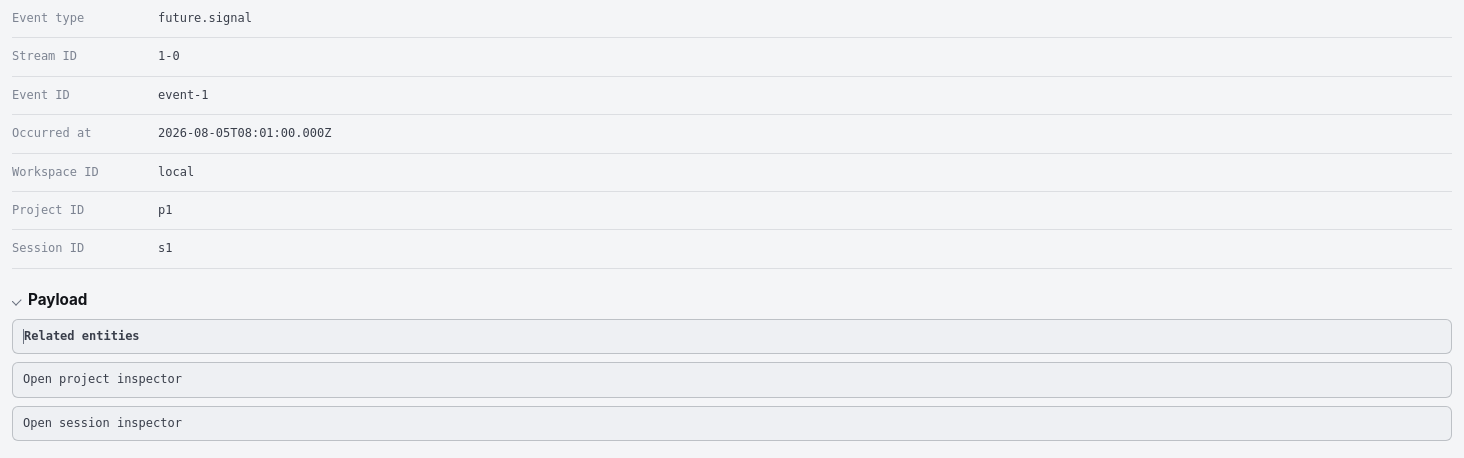
Test case: read-only inspectors › navigates from an event only to known project and session references
The width and height of the screenshot is (1464, 458).
Click the button "Open project inspector". click: (102, 379)
box: left=12, top=362, right=1452, bottom=398
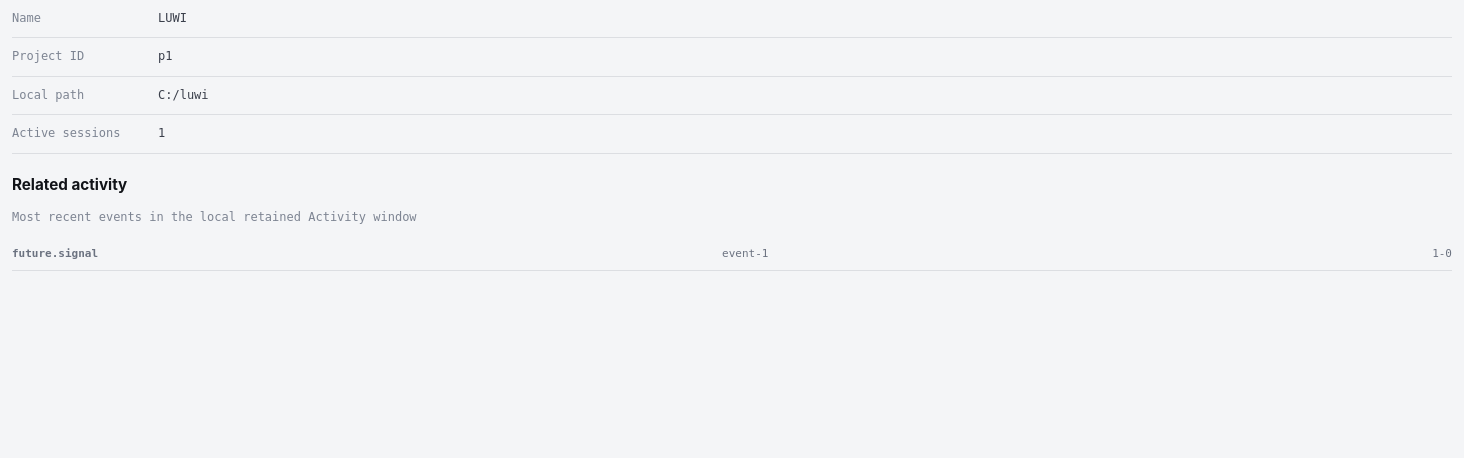
Expected: the text "Local path" is shown, left=12, top=88, right=84, bottom=102
Expected: the text "C:/luwi" is shown, left=158, top=88, right=209, bottom=102
